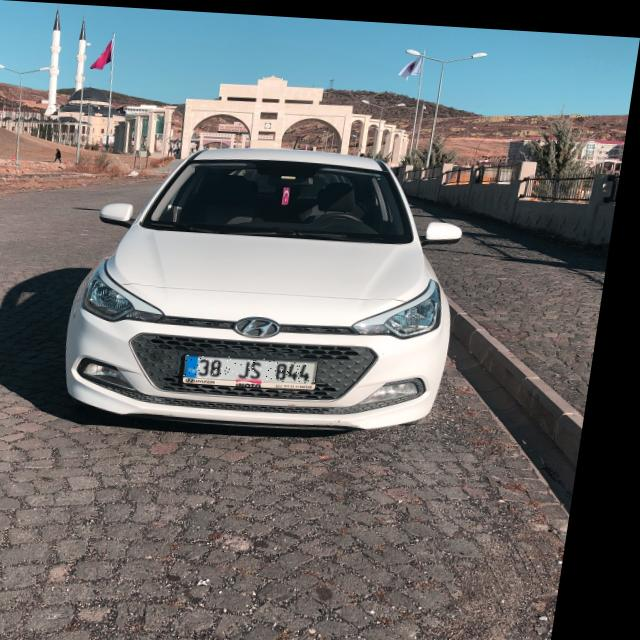license_plate: (195, 351, 328, 380)
